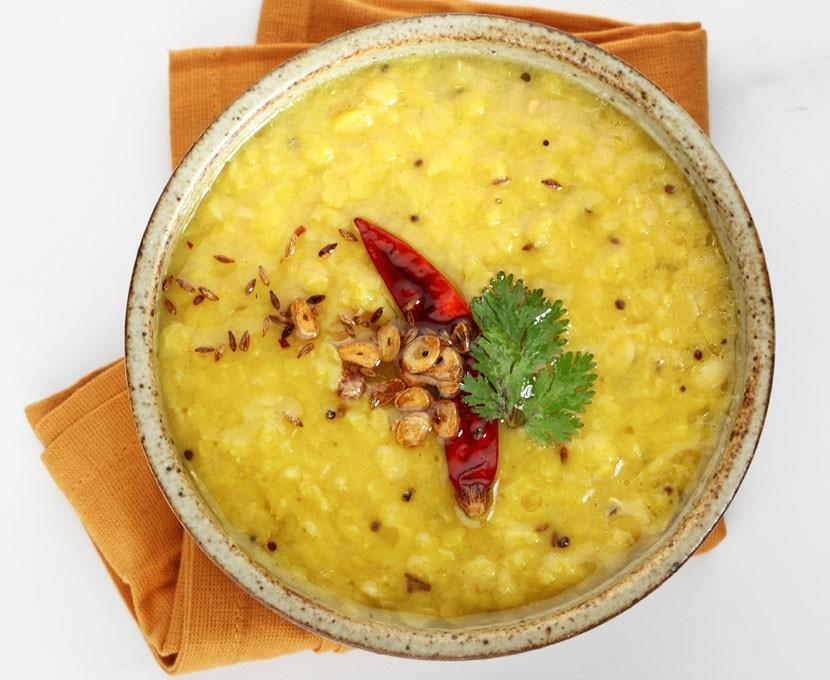Dal: (155, 53, 733, 620)
